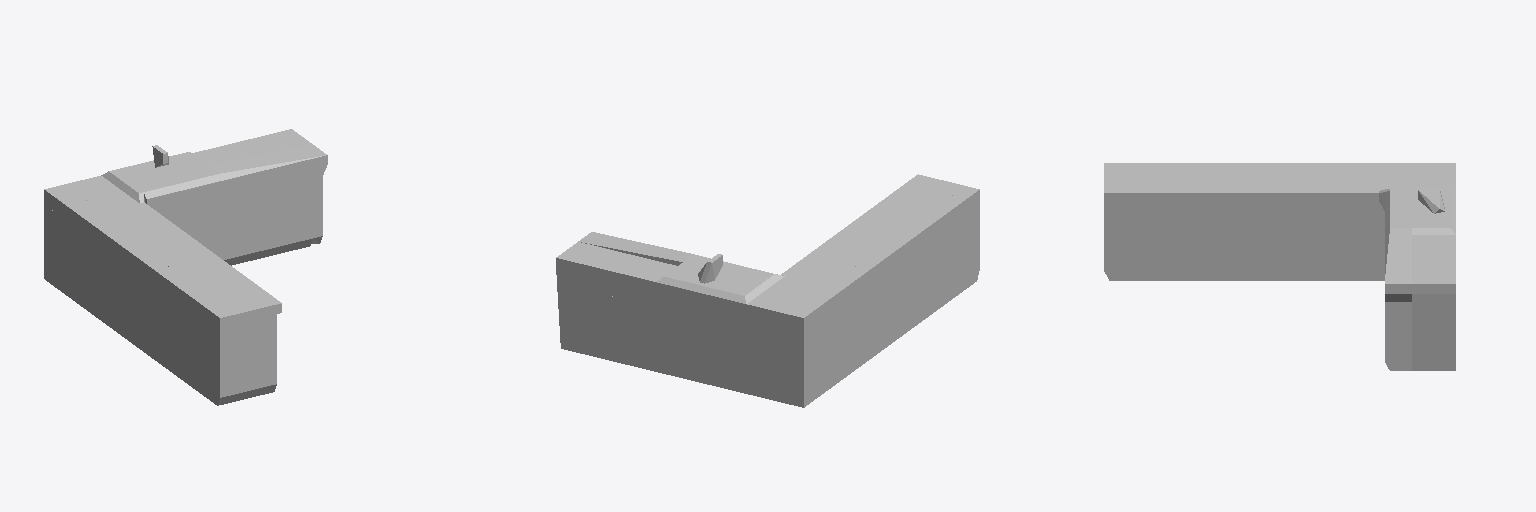
File: object_vhacd.obj
3 views of the same model, side by side, from view 1: azimuth 30°, elevation 25°; view 2: azimuth 150°, elevation 25°; view 3: azimuth 270°, elevation 25° (orthographic).
Visible parts, largest first — view 1: convex_3, convex_7, convex_1, convex_18, convex_11, convex_9, convex_16, convex_2, convex_15, convex_8; view 2: convex_3, convex_6, convex_18, convex_16, convex_10, convex_19, convex_9, convex_2, convex_1, convex_0, convex_15, convex_13; view 3: convex_17, convex_18, convex_0, convex_4, convex_1, convex_3, convex_5, convex_16, convex_8, convex_11, convex_2, convex_15 (+1 smaller).
Boxes of the visible parts, x1=… form: convex_3: x1=66, y1=202, x2=233, y2=405; convex_7: x1=162, y1=179, x2=312, y2=265; convex_1: x1=133, y1=145, x2=327, y2=214; convex_18: x1=81, y1=192, x2=267, y2=308; convex_11: x1=227, y1=298, x2=276, y2=401; convex_9: x1=44, y1=205, x2=65, y2=294; convex_16: x1=192, y1=132, x2=297, y2=165; convex_2: x1=44, y1=176, x2=122, y2=219; convex_15: x1=117, y1=154, x2=208, y2=183; convex_8: x1=312, y1=176, x2=322, y2=243; convex_3: x1=812, y1=186, x2=979, y2=390; convex_6: x1=570, y1=286, x2=736, y2=391; convex_18: x1=770, y1=181, x2=956, y2=298; convex_16: x1=570, y1=245, x2=676, y2=306; convex_10: x1=737, y1=317, x2=789, y2=404; convex_19: x1=656, y1=274, x2=741, y2=326; convex_9: x1=790, y1=317, x2=825, y2=407; convex_2: x1=747, y1=288, x2=825, y2=332; convex_1: x1=578, y1=232, x2=768, y2=280; convex_0: x1=556, y1=242, x2=591, y2=350; convex_15: x1=667, y1=262, x2=757, y2=292; convex_13: x1=737, y1=273, x2=784, y2=318; convex_17: x1=1120, y1=206, x2=1384, y2=280; convex_18: x1=1120, y1=170, x2=1411, y2=205; convex_0: x1=1412, y1=277, x2=1455, y2=370; convex_4: x1=1197, y1=191, x2=1378, y2=217; convex_1: x1=1385, y1=191, x2=1411, y2=301; convex_3: x1=1104, y1=163, x2=1411, y2=169; convex_5: x1=1104, y1=191, x2=1196, y2=217; convex_16: x1=1412, y1=235, x2=1455, y2=276; convex_8: x1=1385, y1=302, x2=1411, y2=370; convex_11: x1=1104, y1=170, x2=1119, y2=280; convex_2: x1=1412, y1=163, x2=1455, y2=190; convex_15: x1=1412, y1=191, x2=1444, y2=234.
Size of the model in its own units: 2.66 by 1.18 by 3.27.